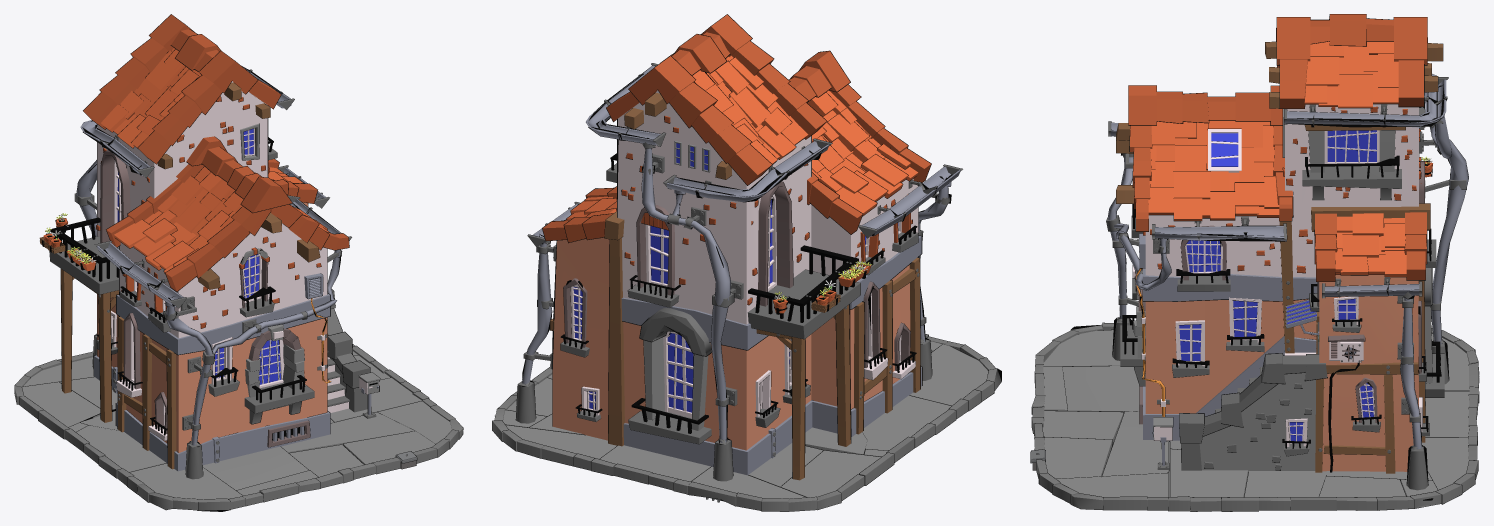
The model's file is house-09-cell-shading-fast-preview.glb.
The picture shows the model from 3 angles, left to right: view 1: azimuth 30°, elevation 25°; view 2: azimuth 150°, elevation 25°; view 3: azimuth 270°, elevation 25°; orthographic projection. The views are drawn at different scales.
Size of the model in its own units: 1375 by 1478 by 1465.
